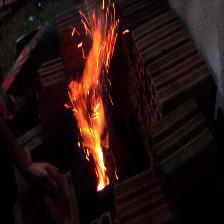fire: (45, 1, 152, 197)
